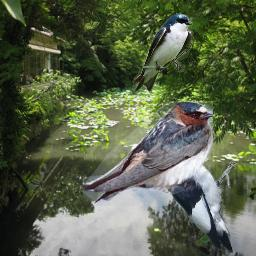Swallow: (83, 101, 213, 206), (132, 13, 193, 93)
Woodpecker: (156, 141, 241, 253)
